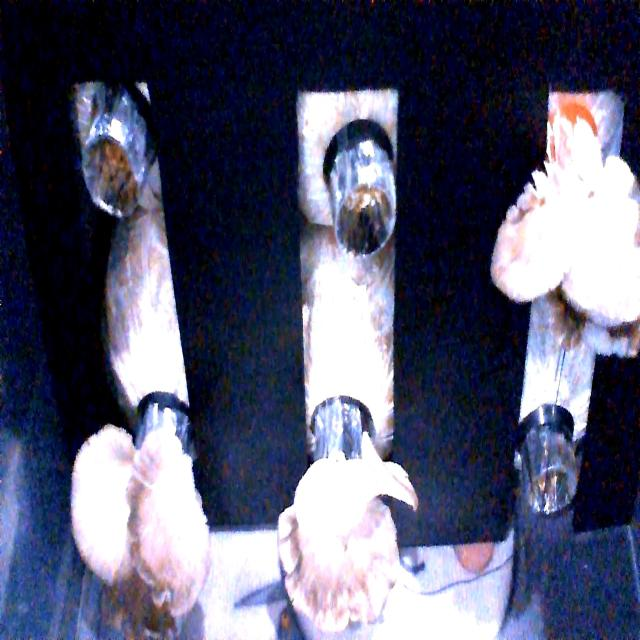big: (74, 425, 208, 608), (495, 167, 640, 334), (278, 456, 402, 625)
nfound: (75, 126, 154, 220), (330, 176, 404, 268), (517, 453, 585, 515)
